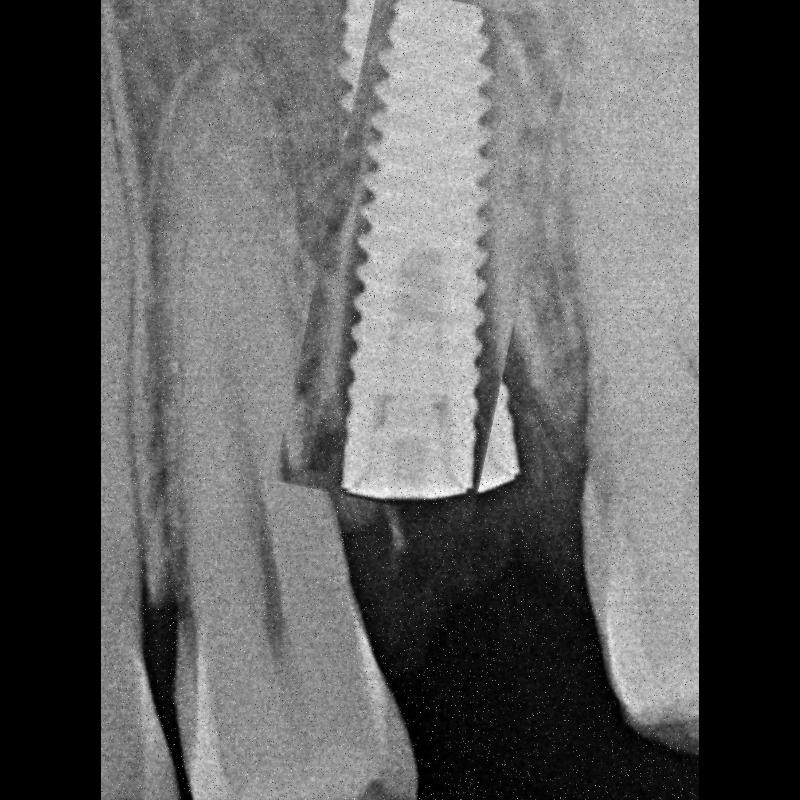MIS: (300, 1, 552, 515)
